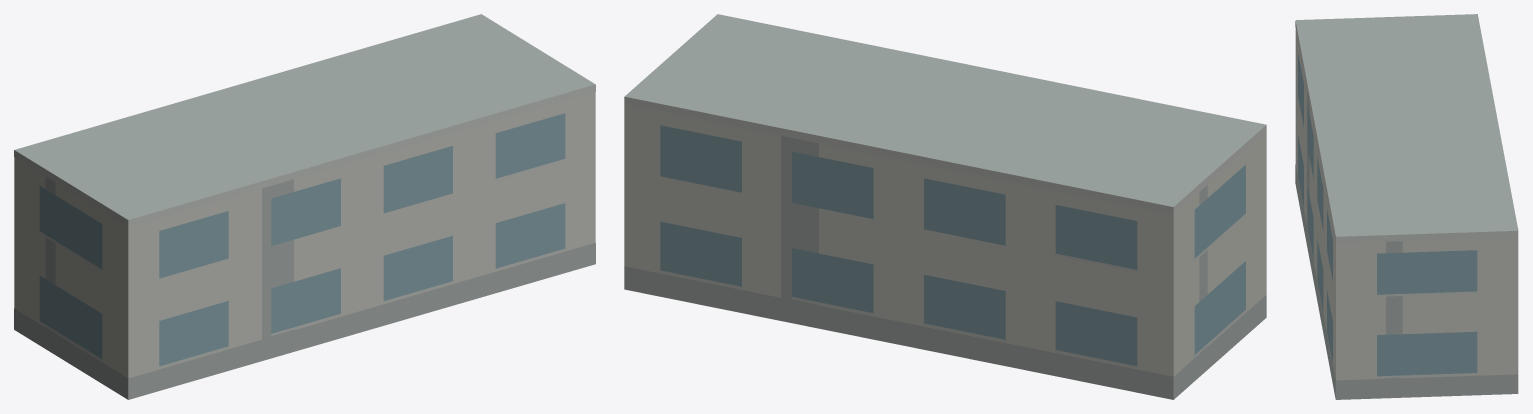
File: residential-04525e9a-5ef0-4349-8c5c-483aa5683061.glb
The picture shows the model from 3 angles, left to right: view 1: azimuth 30°, elevation 25°; view 2: azimuth 150°, elevation 25°; view 3: azimuth 270°, elevation 25°; orthographic projection. The views are drawn at different scales.
Parts seen in each view (by area): view 1: residential-04525e9a-5ef0-4349-8c5c-483aa5683061.tmp; view 2: residential-04525e9a-5ef0-4349-8c5c-483aa5683061.tmp; view 3: residential-04525e9a-5ef0-4349-8c5c-483aa5683061.tmp.
Boxes of the visible parts, left/top/right/bottom form: residential-04525e9a-5ef0-4349-8c5c-483aa5683061.tmp: left=14, top=14, right=595, bottom=399; residential-04525e9a-5ef0-4349-8c5c-483aa5683061.tmp: left=624, top=14, right=1266, bottom=399; residential-04525e9a-5ef0-4349-8c5c-483aa5683061.tmp: left=1295, top=14, right=1518, bottom=399.
Bounding box in the file's own units: 17.88 × 6.1 × 7.57.
